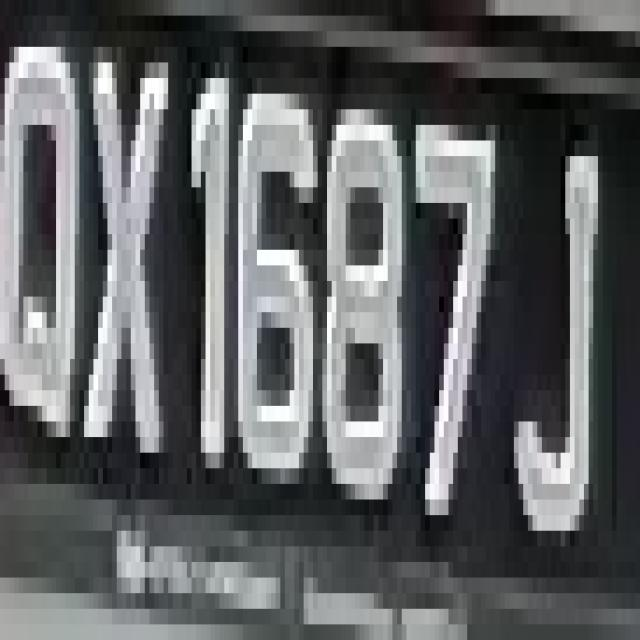1: (187, 31, 233, 484)
6: (234, 62, 313, 484)
7: (406, 94, 500, 515)
8: (313, 62, 406, 531)
J: (509, 109, 612, 578)
Q: (5, 16, 79, 484)
X: (84, 31, 173, 484)
